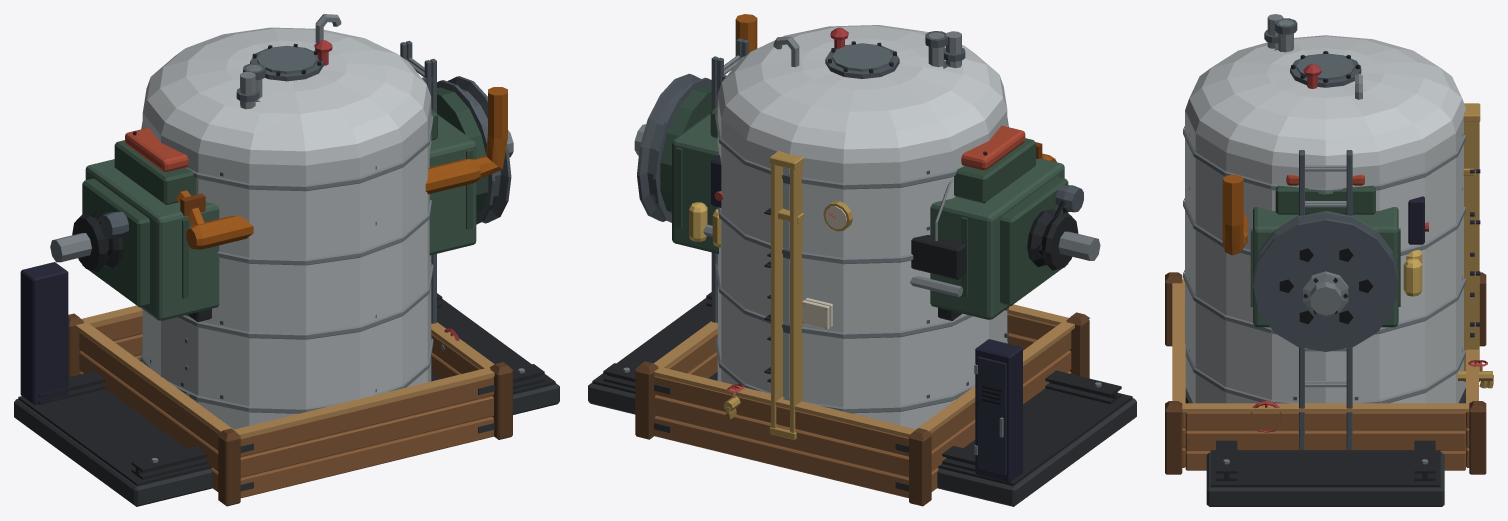
File: maquinas.glb
3 renders of one model, left to right at view 1: azimuth 30°, elevation 25°; view 2: azimuth 150°, elevation 25°; view 3: azimuth 270°, elevation 25°, orthographic. The views are drawn at different scales.
Parts seen in each view (by area): view 1: prop_deposito@3, prop_motor_movil, prop_bancal, prop_motor, prop_deposito@2, prop_deposito; view 2: prop_deposito@3, prop_motor_movil, prop_bancal, prop_motor, prop_deposito@2, prop_deposito, prop_generador_movil; view 3: prop_deposito@3, prop_motor_movil, prop_bancal, prop_motor, prop_deposito@2, prop_deposito, prop_generador_movil.
Part boxes in pixels (x1,y1,x2,y2): prop_deposito@3: (140, 27, 459, 429); prop_motor_movil: (50, 76, 513, 320); prop_bancal: (68, 305, 513, 506); prop_motor: (14, 262, 559, 506); prop_deposito@2: (185, 14, 431, 399); prop_deposito: (150, 72, 431, 396); prop_deposito@3: (711, 25, 1008, 439); prop_motor_movil: (634, 14, 1100, 319); prop_bancal: (635, 304, 1089, 506); prop_motor: (588, 292, 1136, 506); prop_deposito@2: (717, 31, 1008, 414); prop_deposito: (728, 31, 1008, 416); prop_generador_movil: (711, 155, 961, 320); prop_deposito@3: (1183, 35, 1493, 449); prop_motor_movil: (1222, 174, 1422, 351); prop_bancal: (1165, 272, 1486, 474); prop_motor: (1206, 440, 1444, 506); prop_deposito@2: (1189, 18, 1487, 388); prop_deposito: (1264, 14, 1486, 400); prop_generador_movil: (1408, 196, 1428, 244).
Size of the model in its own units: 3.8 by 3 by 2.49.
